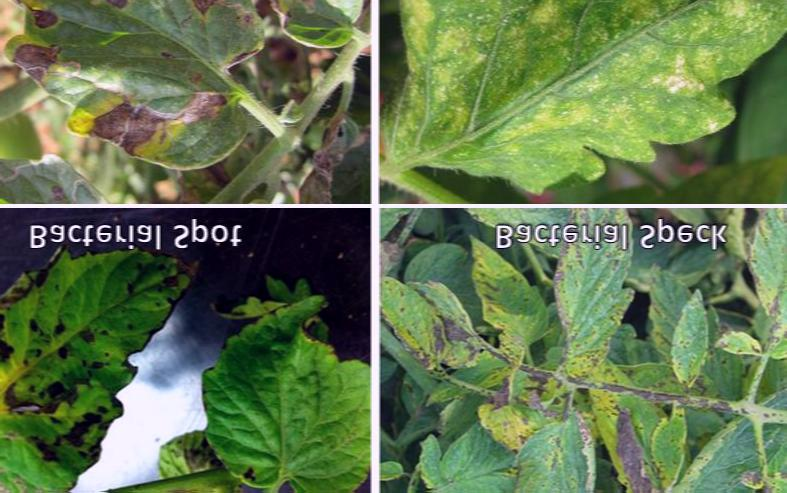Tomato Early blight leaf: (0, 0, 281, 177)
Tomato leaf bacterial spot: (0, 228, 202, 493), (192, 254, 371, 493), (544, 212, 628, 393), (467, 218, 550, 385), (713, 212, 787, 379), (487, 396, 603, 493), (391, 260, 486, 373), (396, 422, 540, 493), (640, 396, 693, 493)
